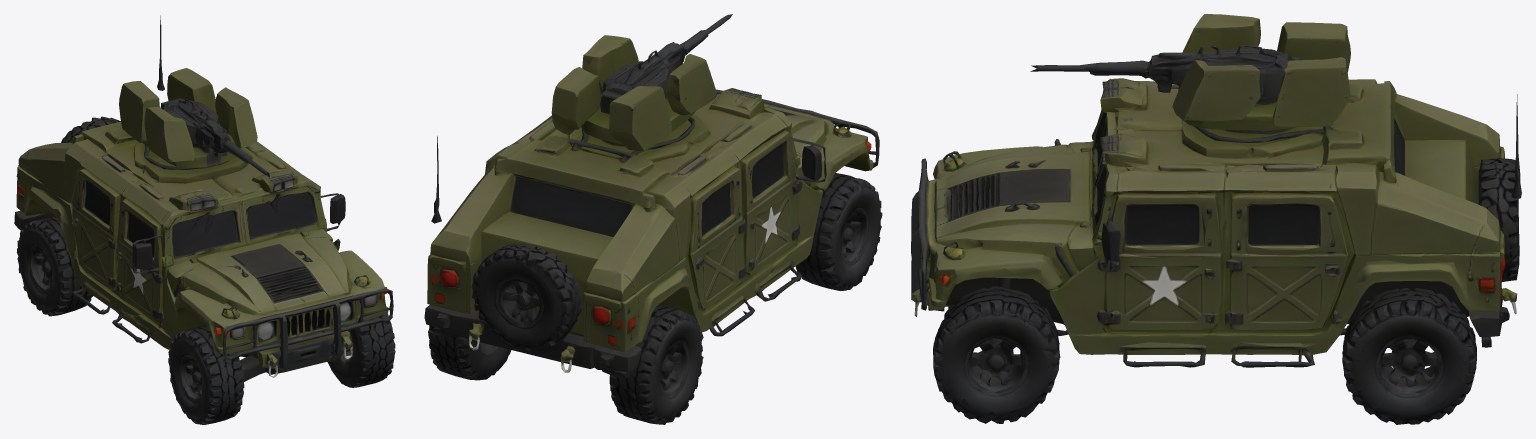
Rendered from armored-vehicle-v244.glb.
The picture shows the model from 3 angles, left to right: view 1: azimuth 30°, elevation 25°; view 2: azimuth 150°, elevation 25°; view 3: azimuth 270°, elevation 25°; orthographic projection. The views are drawn at different scales.
Parts seen in each view (by area): view 1: Mesh; view 2: Mesh; view 3: Mesh.
Boxes of the visible parts, x1,y1,x2,y2 form: Mesh: [14, 15, 395, 424]; Mesh: [424, 14, 882, 424]; Mesh: [911, 14, 1521, 424].
Size of the model in its own units: 1.04 by 1.1 by 1.88.
1 material, 1 textured.
